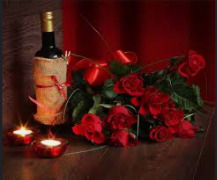RedRose: (72, 112, 107, 146), (114, 71, 145, 97), (107, 106, 139, 130)
